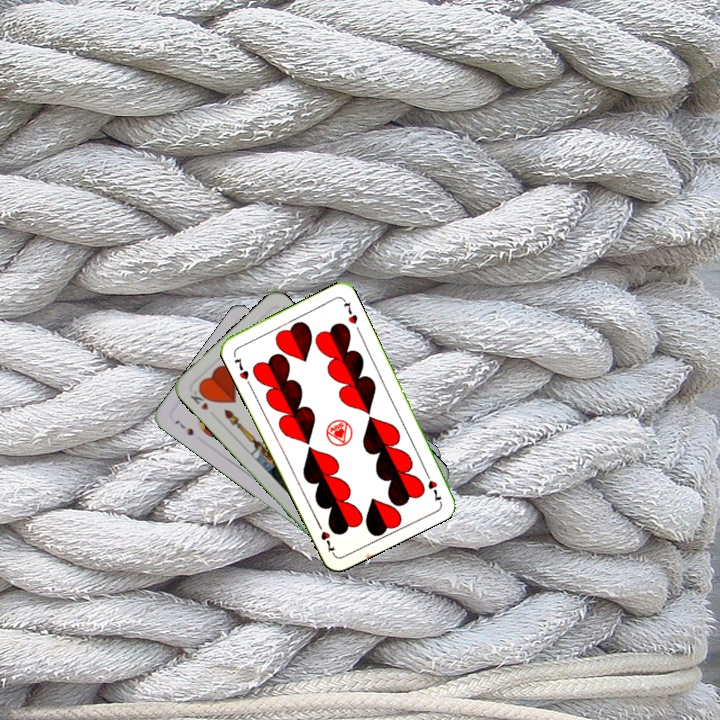H7: (420, 466, 444, 504), (230, 354, 251, 383)
HK: (186, 385, 214, 413)
S7: (171, 416, 196, 438)
